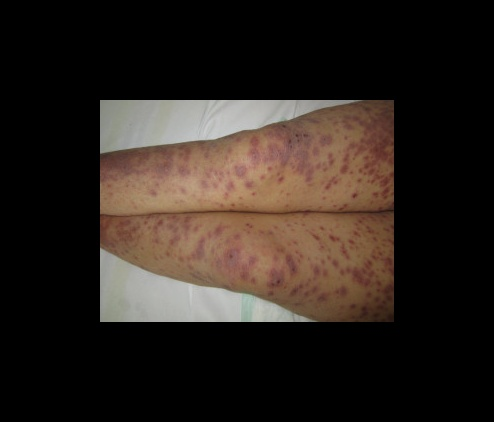SJS-TEN: (96, 99, 392, 323)
